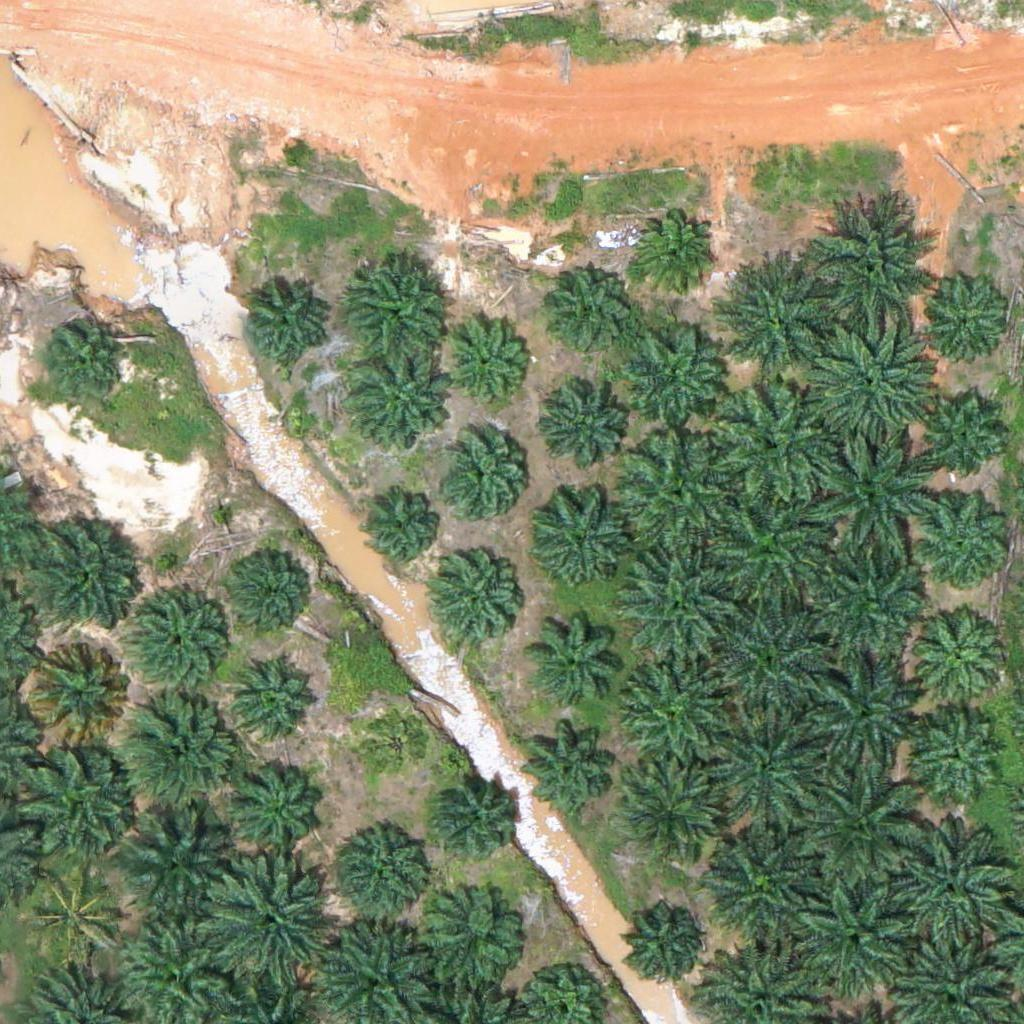Kelapa_Sawit: (898, 823, 1023, 949), (798, 648, 923, 774), (811, 198, 936, 324), (806, 319, 931, 445), (807, 431, 932, 557), (811, 546, 936, 672), (720, 254, 845, 380), (715, 379, 840, 505), (708, 482, 833, 608), (709, 595, 834, 721), (705, 703, 830, 829), (617, 428, 742, 554), (21, 508, 146, 634), (15, 742, 140, 868), (117, 684, 242, 810), (201, 858, 326, 984), (792, 874, 917, 999), (800, 762, 925, 887), (116, 800, 241, 925), (16, 856, 129, 970), (699, 825, 812, 938), (23, 637, 136, 750), (413, 890, 526, 1003), (124, 587, 236, 701), (615, 752, 727, 865), (619, 645, 731, 758), (619, 544, 731, 657), (912, 496, 1012, 597), (907, 606, 1007, 707), (904, 706, 1004, 807), (627, 326, 727, 427), (523, 607, 623, 708), (522, 714, 622, 815), (350, 350, 450, 451), (346, 257, 446, 358), (225, 752, 325, 853), (328, 827, 428, 928), (914, 267, 1014, 367), (528, 488, 628, 588), (549, 267, 637, 355), (442, 322, 530, 410), (439, 435, 527, 523), (431, 558, 519, 646), (241, 282, 329, 370), (430, 769, 517, 858), (40, 323, 127, 411), (359, 482, 446, 570), (919, 396, 1006, 484), (629, 210, 716, 298), (543, 386, 630, 474), (233, 652, 320, 740), (228, 547, 315, 635), (359, 705, 434, 781), (625, 908, 700, 983)
